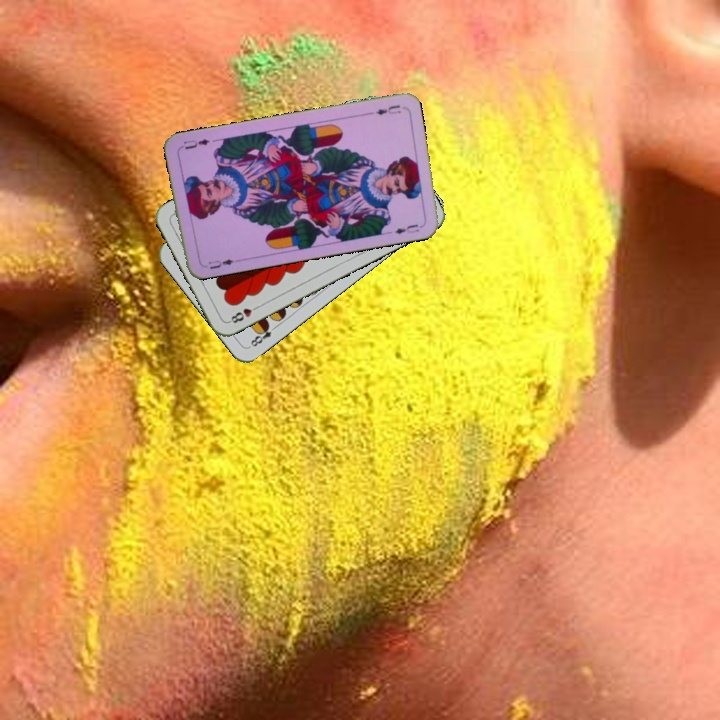E8: (245, 319, 280, 350)
EU: (200, 255, 236, 272), (372, 101, 404, 118)
H8: (225, 301, 262, 326)
